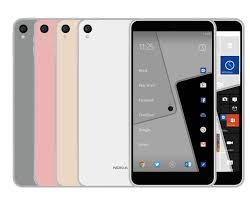nokia: (127, 15, 215, 188)
